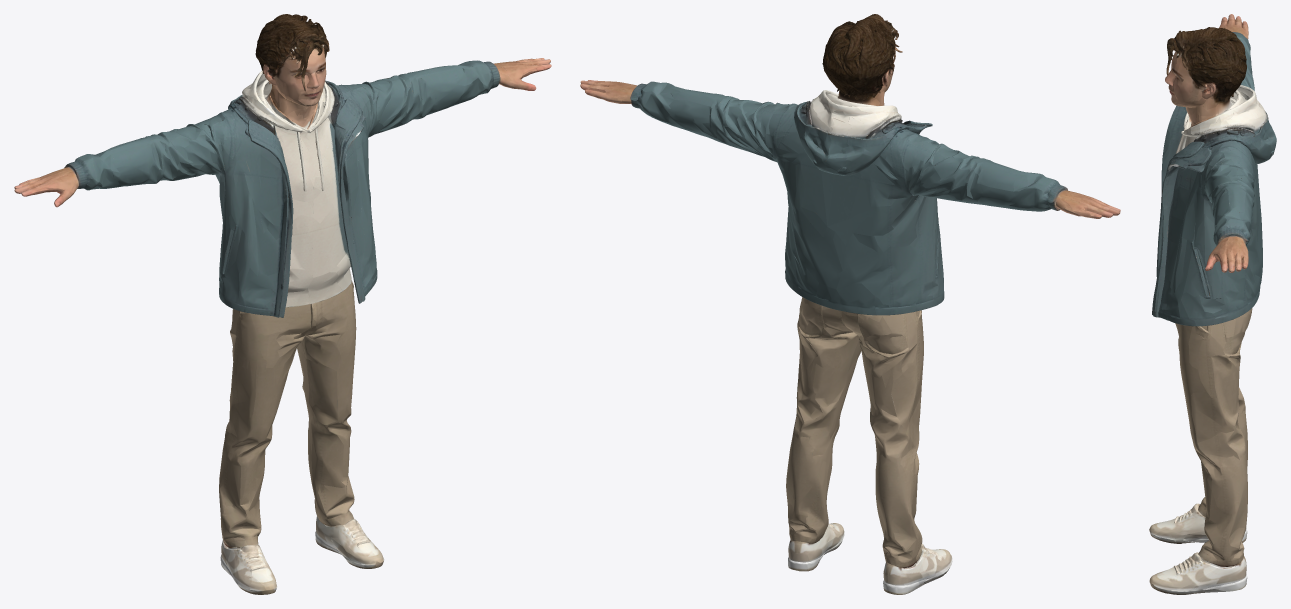
File: character_n02_generated.glb
3 renders of one model, left to right at view 1: azimuth 30°, elevation 25°; view 2: azimuth 150°, elevation 25°; view 3: azimuth 270°, elevation 25°, orthographic. The views are drawn at different scales.
Bounding box in the file's own units: 1.9 × 1.84 × 0.3993.
Materials: 1 (1 with a texture image).
